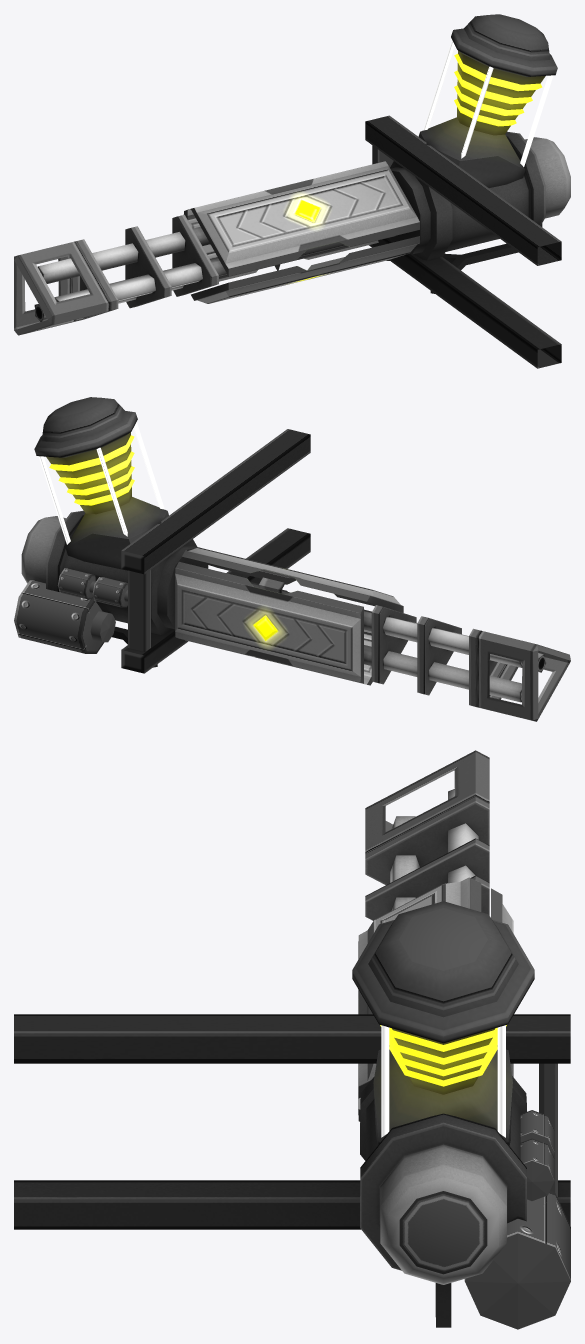
File: gatlinggun.fbx
The picture shows the model from 3 angles, top to bottom: view 1: azimuth 30°, elevation 25°; view 2: azimuth 150°, elevation 25°; view 3: azimuth 270°, elevation 25°; orthographic projection. The views are drawn at different scales.
Parts seen in each view (by area): view 1: gatling_gun; view 2: gatling_gun; view 3: gatling_gun.
Part boxes in pixels (x1,y1,x2,y2): gatling_gun: (14, 14, 570, 368); gatling_gun: (14, 397, 570, 721); gatling_gun: (14, 750, 570, 1329).
Bounding box in the file's own units: 4.11 × 1.75 × 2.3.
